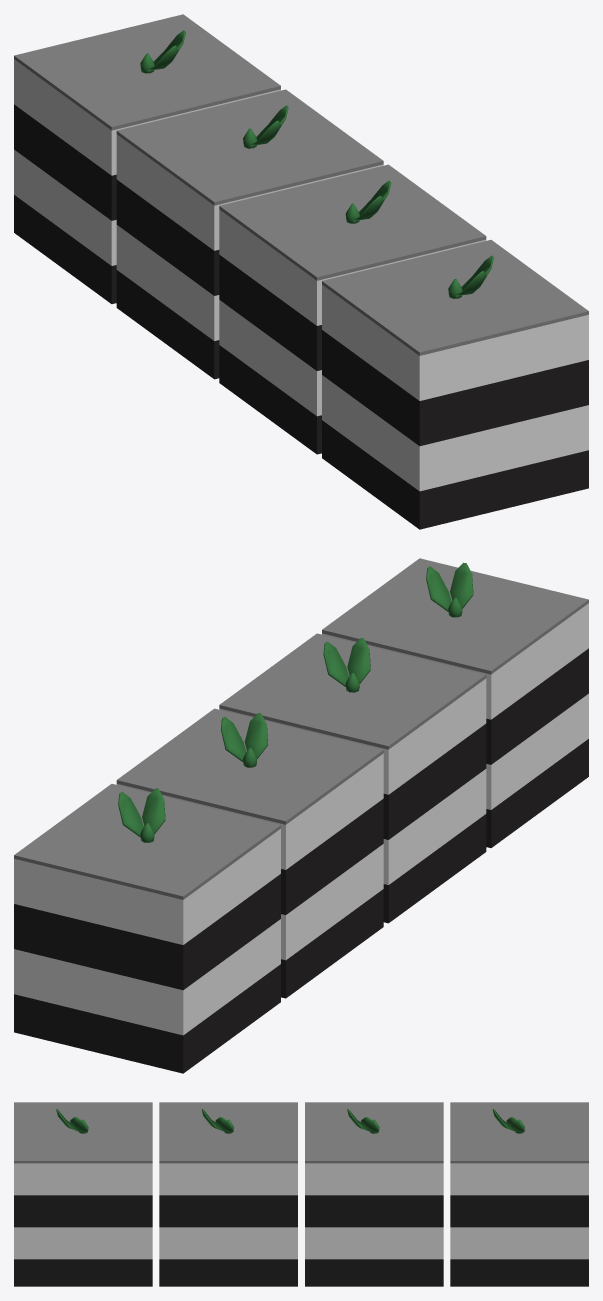
Rendered from thiramis_4.fbx.
3 renders of one model, top to bottom at view 1: azimuth 30°, elevation 25°; view 2: azimuth 150°, elevation 25°; view 3: azimuth 270°, elevation 25°, orthographic. The views are drawn at different scales.
Parts seen in each view (by area): view 1: 立方体.002; view 2: 立方体.002; view 3: 立方体.002.
Boxes of the visible parts, x1=… form: 立方体.002: x1=14, y1=14, x2=588, y2=529; 立方体.002: x1=14, y1=558, x2=588, y2=1073; 立方体.002: x1=14, y1=1102, x2=588, y2=1286.
Bounding box in the file's own units: 13.4 × 16.14 × 55.62.
